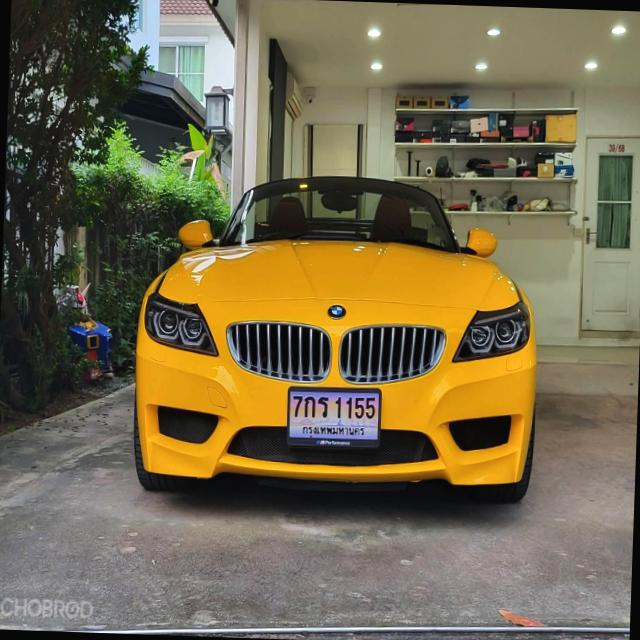license_plate: (282, 382, 383, 449)
